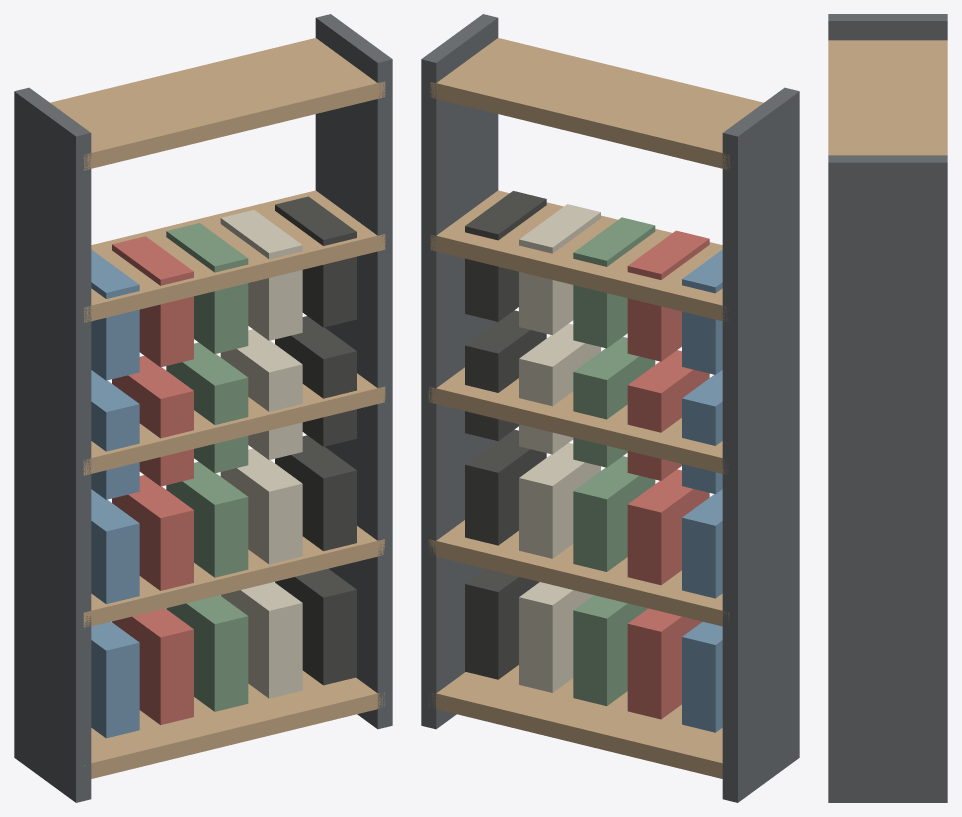
Rendered from binder_shelf_02.glb.
3 renders of one model, left to right at view 1: azimuth 30°, elevation 25°; view 2: azimuth 150°, elevation 25°; view 3: azimuth 270°, elevation 25°, orthographic. The views are drawn at different scales.
Parts seen in each view (by area): view 1: side-0.45, side0.45, shelf4, shelf0, shelf3, shelf2, shelf1, binder0_2, binder0_3, binder0_4, binder0_1, binder1_2 (+15 smaller); view 2: side-0.45, side0.45, shelf4, shelf0, shelf3, shelf2, shelf1, binder0_1, binder0_2, binder0_3, binder1_1, binder1_2 (+15 smaller); view 3: side0.45, shelf4, side-0.45.
Boxes of the visible parts, left/top/right/bottom form: side-0.45: left=14, top=87, right=91, bottom=802; side0.45: left=315, top=14, right=392, bottom=729; shelf4: left=50, top=38, right=385, bottom=170; shelf0: left=84, top=670, right=385, bottom=778; shelf3: left=84, top=190, right=385, bottom=322; shelf2: left=83, top=373, right=385, bottom=475; shelf1: left=83, top=526, right=384, bottom=628; binder0_2: left=166, top=595, right=248, bottom=711; binder0_3: left=220, top=582, right=302, bottom=698; binder0_4: left=275, top=568, right=356, bottom=685; binder0_1: left=112, top=608, right=193, bottom=724; binder1_2: left=166, top=461, right=248, bottom=577; side-0.45: left=722, top=87, right=799, bottom=802; side0.45: left=421, top=14, right=498, bottom=729; shelf4: left=430, top=38, right=763, bottom=170; shelf0: left=428, top=665, right=722, bottom=778; shelf3: left=428, top=190, right=728, bottom=321; shelf2: left=428, top=367, right=728, bottom=474; shelf1: left=428, top=520, right=729, bottom=626; binder0_1: left=627, top=608, right=702, bottom=719; binder0_2: left=573, top=595, right=647, bottom=706; binder0_3: left=519, top=582, right=593, bottom=692; binder1_1: left=627, top=469, right=709, bottom=585; binder1_2: left=573, top=456, right=655, bottom=571; side0.45: left=828, top=155, right=947, bottom=802; shelf4: left=828, top=40, right=947, bottom=155; side-0.45: left=828, top=14, right=947, bottom=40.
Size of the model in its own units: 0.945 by 1.9 by 0.32.
